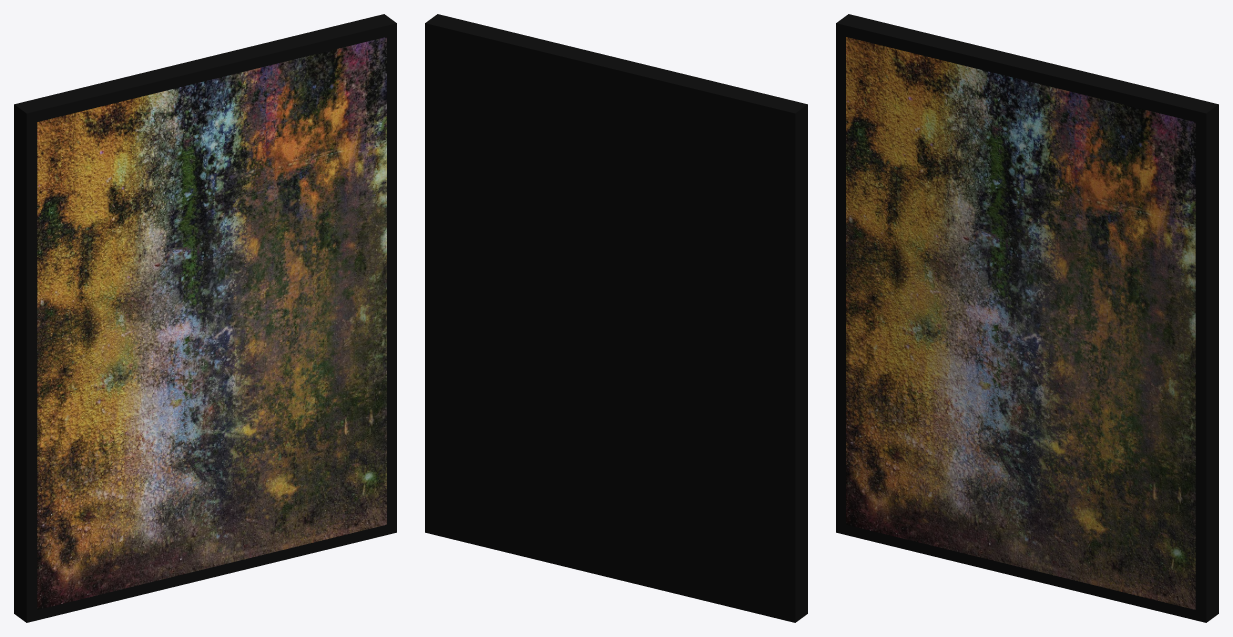
The model's file is forgotten-skin.glb.
3 renders of one model, left to right at view 1: azimuth 30°, elevation 25°; view 2: azimuth 150°, elevation 25°; view 3: azimuth 330°, elevation 25°, orthographic.
Bounding box in the file's own units: 0.6456 × 0.8488 × 0.0392.
2 materials, 1 textured.
